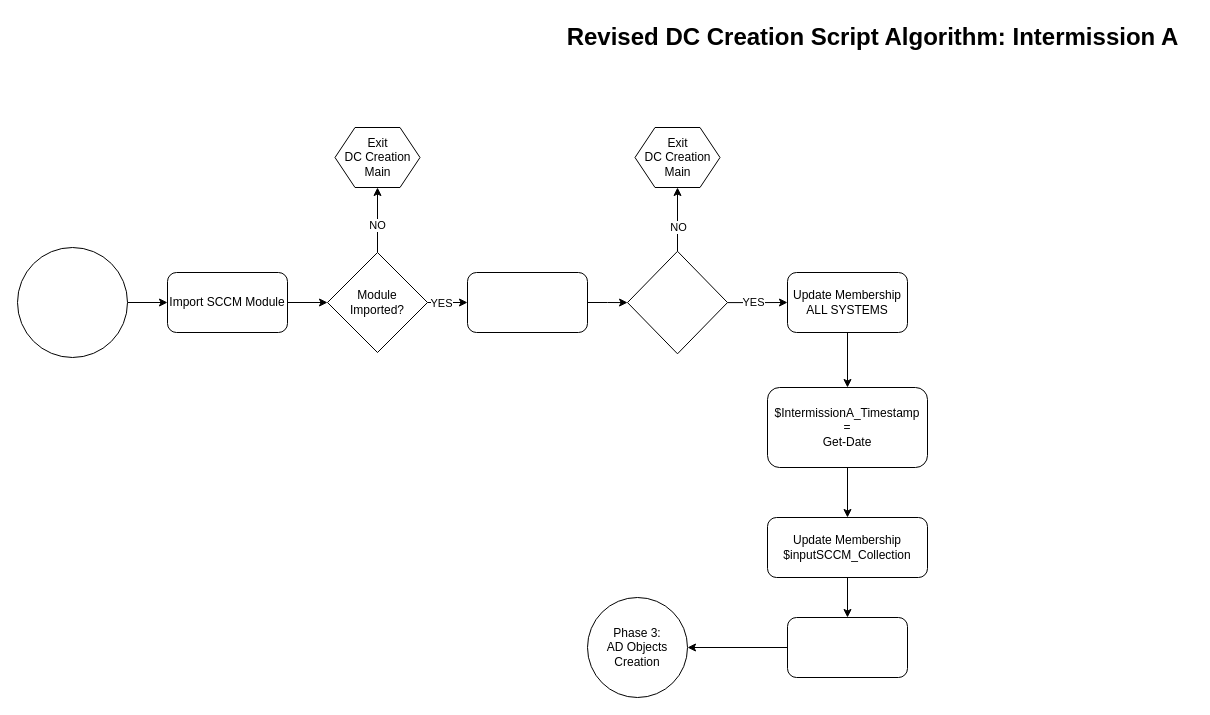
The diagram is 1210 pixels wide and 715 high, and some of its shapes have lost their labels. Each missing label, with the centre of its shape:
cd $InputSCCMDrive: point (527, 302)
Change dir $BeginningScriptRoot: point (847, 647)
Dir Changed?: point (677, 302)
Intermission A: point (72, 302)
